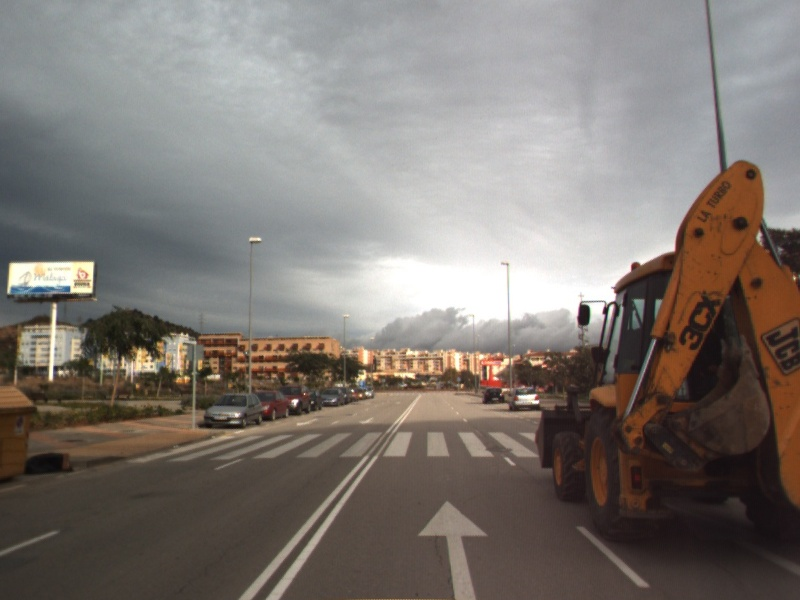STRAIGHT: (664, 500, 800, 576), (414, 496, 493, 600)
